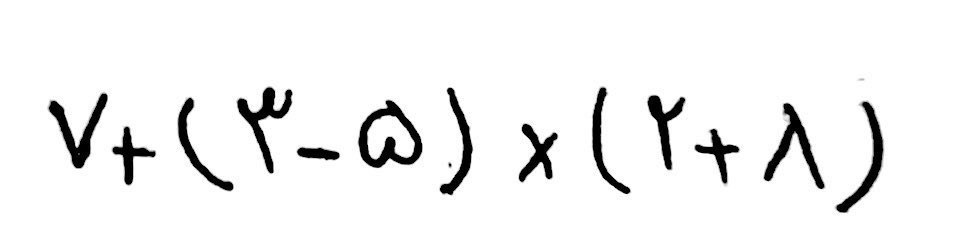character: (834, 100, 885, 215), (761, 102, 825, 190), (176, 97, 236, 190), (236, 86, 294, 175), (48, 91, 110, 171), (356, 98, 423, 170), (591, 87, 632, 196), (436, 87, 476, 198), (646, 94, 687, 172), (692, 127, 743, 186), (110, 127, 155, 185), (517, 123, 558, 184), (295, 146, 341, 161)
